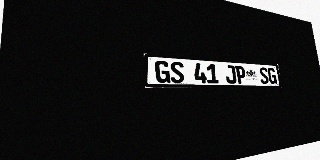plate: (144, 53, 282, 88)
